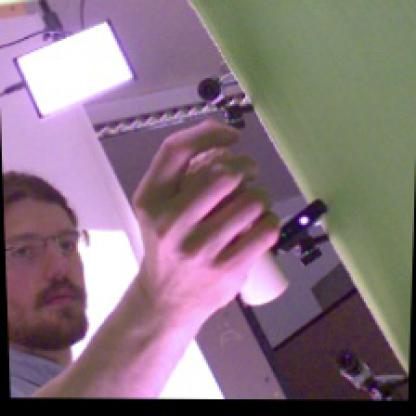Hand: (130, 118, 281, 330)
